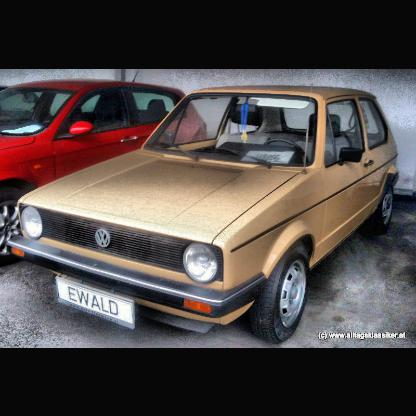Volkswagen Golf Hatchback 1991: (8, 85, 403, 343)
